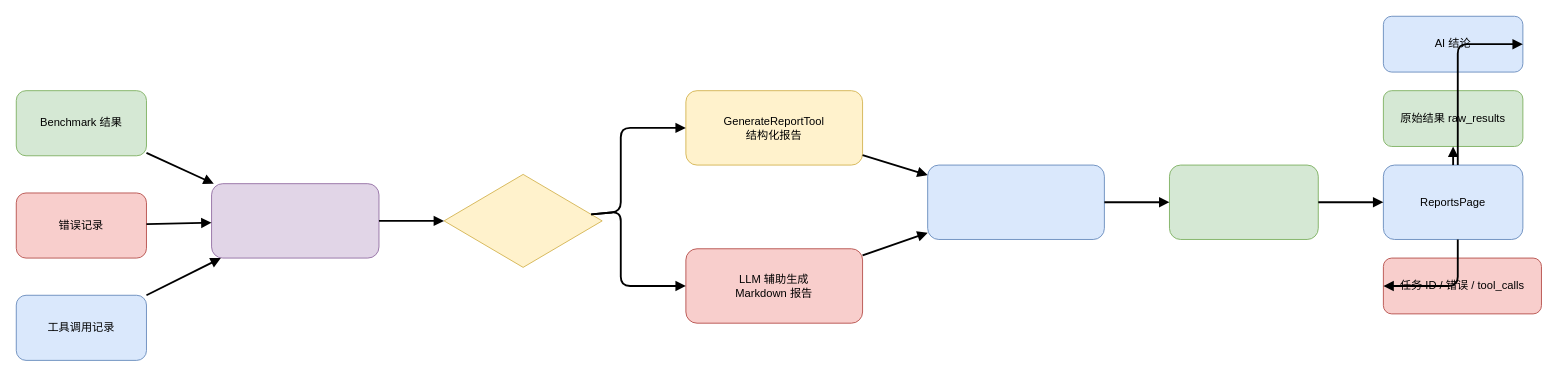
This 1558x377 diagram has some shape labels left out. Here are the shapes that lost their labels. From the top down, the box of each, then its label:
(211, 183, 379, 258): generate_report 节点
(443, 173, 602, 267): MCP 报告工具可用
(927, 164, 1104, 239): AgentOrchestrator 整理报告对象
(1169, 164, 1318, 239): ReportStore reports.json
